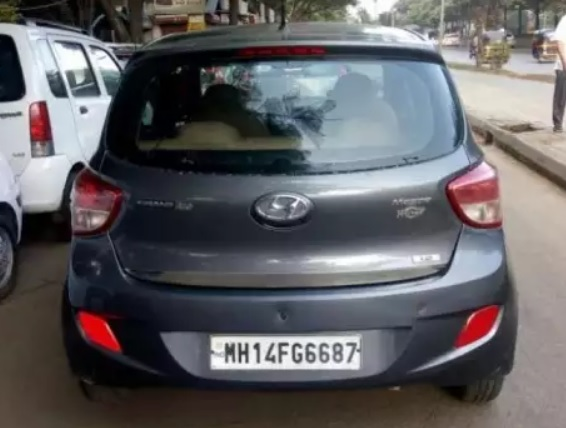licenseplate: (207, 331, 366, 375)
